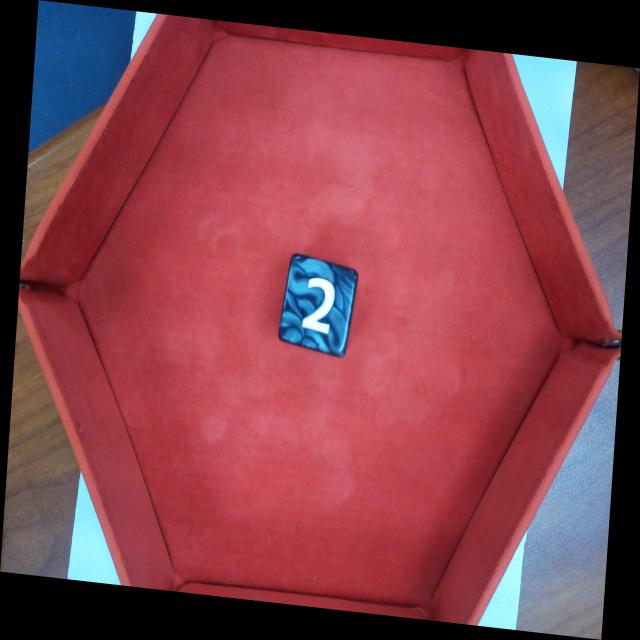dice: (275, 251, 360, 360)
